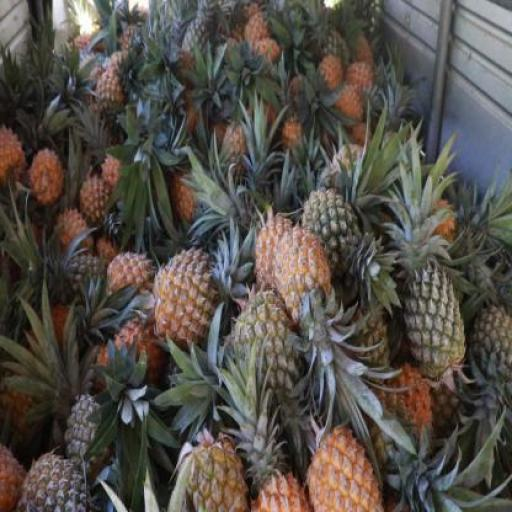------------------------------: (232, 291, 300, 391), (302, 191, 366, 289), (178, 444, 252, 511), (0, 373, 50, 448), (94, 68, 128, 126)
Pineapple - v8 v1: (305, 422, 385, 511), (275, 229, 335, 331), (153, 248, 216, 343), (253, 216, 302, 305), (116, 318, 162, 396), (108, 249, 152, 306), (80, 171, 118, 225), (32, 147, 64, 206), (0, 124, 30, 186)
